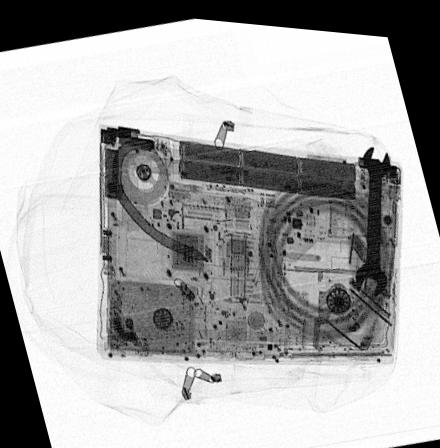Wrench: (354, 136, 391, 291)
